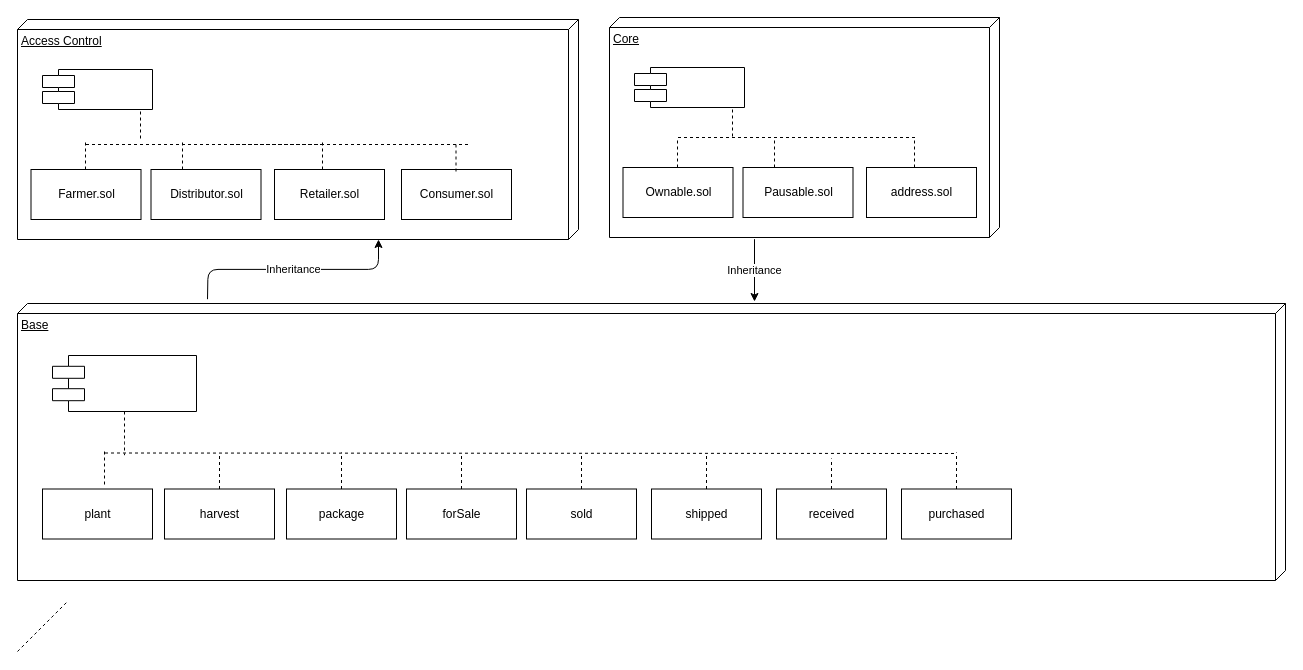
Image size: 1303x670. Some labels were removed from this diagram. Here are the shapes that lost their labels. From the top down, the centre of each, then its label:
At (97,89): "Roles.sol".
At (689,87): "Chain.sol".
At (124,383): "SupplyChain.sol".
